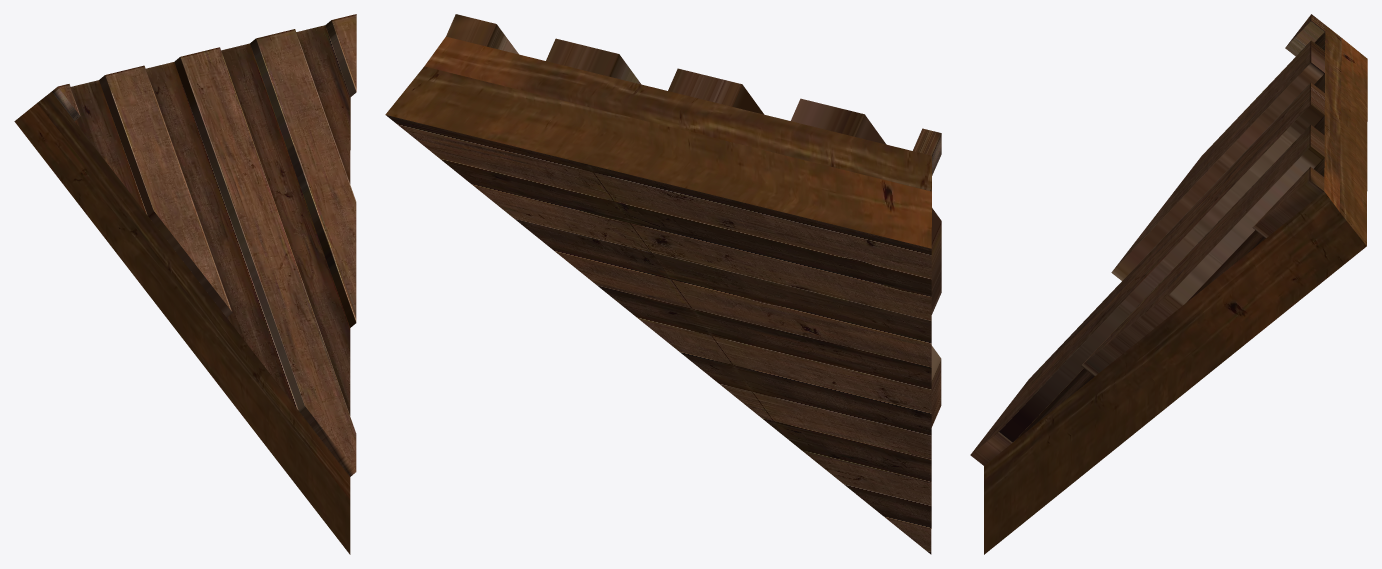
3 renders of one model, left to right at view 1: azimuth 30°, elevation 25°; view 2: azimuth 150°, elevation 25°; view 3: azimuth 270°, elevation 25°, orthographic. The views are drawn at different scales.
Parts seen in each view (by area): view 1: SM_BB_T2_Roof_Triangle_Med_LOD0; view 2: SM_BB_T2_Roof_Triangle_Med_LOD0; view 3: SM_BB_T2_Roof_Triangle_Med_LOD0.
Part boxes in pixels (x1,y1,x2,y2): SM_BB_T2_Roof_Triangle_Med_LOD0: (14, 14, 356, 554); SM_BB_T2_Roof_Triangle_Med_LOD0: (385, 14, 941, 554); SM_BB_T2_Roof_Triangle_Med_LOD0: (970, 14, 1367, 554).
Bounding box in the file's own units: 1.69 × 1.93 × 1.52.
Materials: 2 (2 with a texture image).
